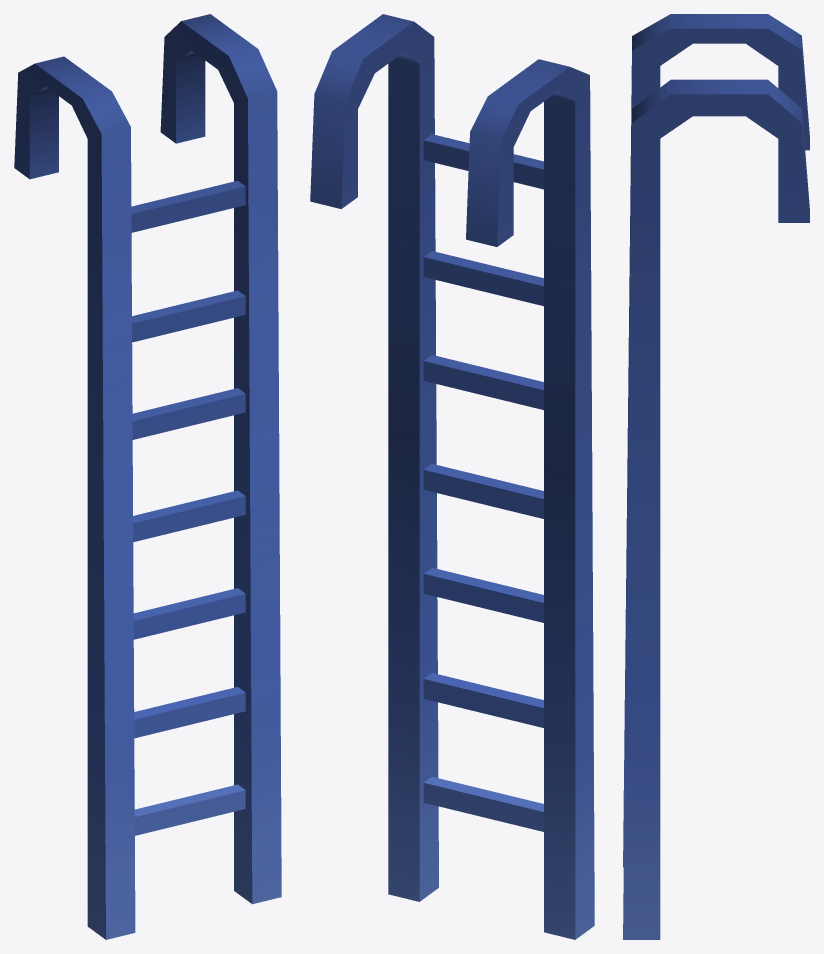
File: Ladder_1_E.fbx
3 renders of one model, left to right at view 1: azimuth 30°, elevation 25°; view 2: azimuth 150°, elevation 25°; view 3: azimuth 270°, elevation 25°, orthographic. The views are drawn at different scales.
Parts seen in each view (by area): view 1: Ladder_1_E; view 2: Ladder_1_E; view 3: Ladder_1_E.
Part boxes in pixels (x1=…): Ladder_1_E: x1=14, y1=14, x2=281, y2=939; Ladder_1_E: x1=310, y1=14, x2=594, y2=939; Ladder_1_E: x1=623, y1=14, x2=809, y2=939.
Size of the model in its own units: 65.17 by 295 by 58.95.
